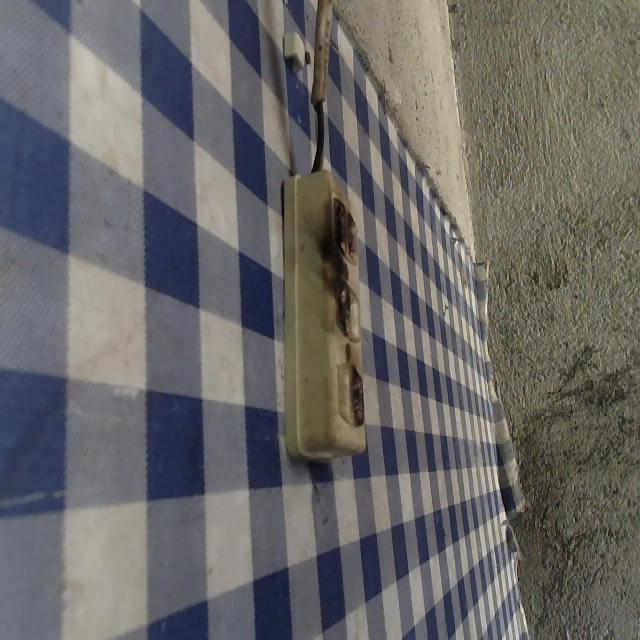-: (323, 187, 360, 269), (343, 356, 370, 427), (331, 274, 357, 338)
